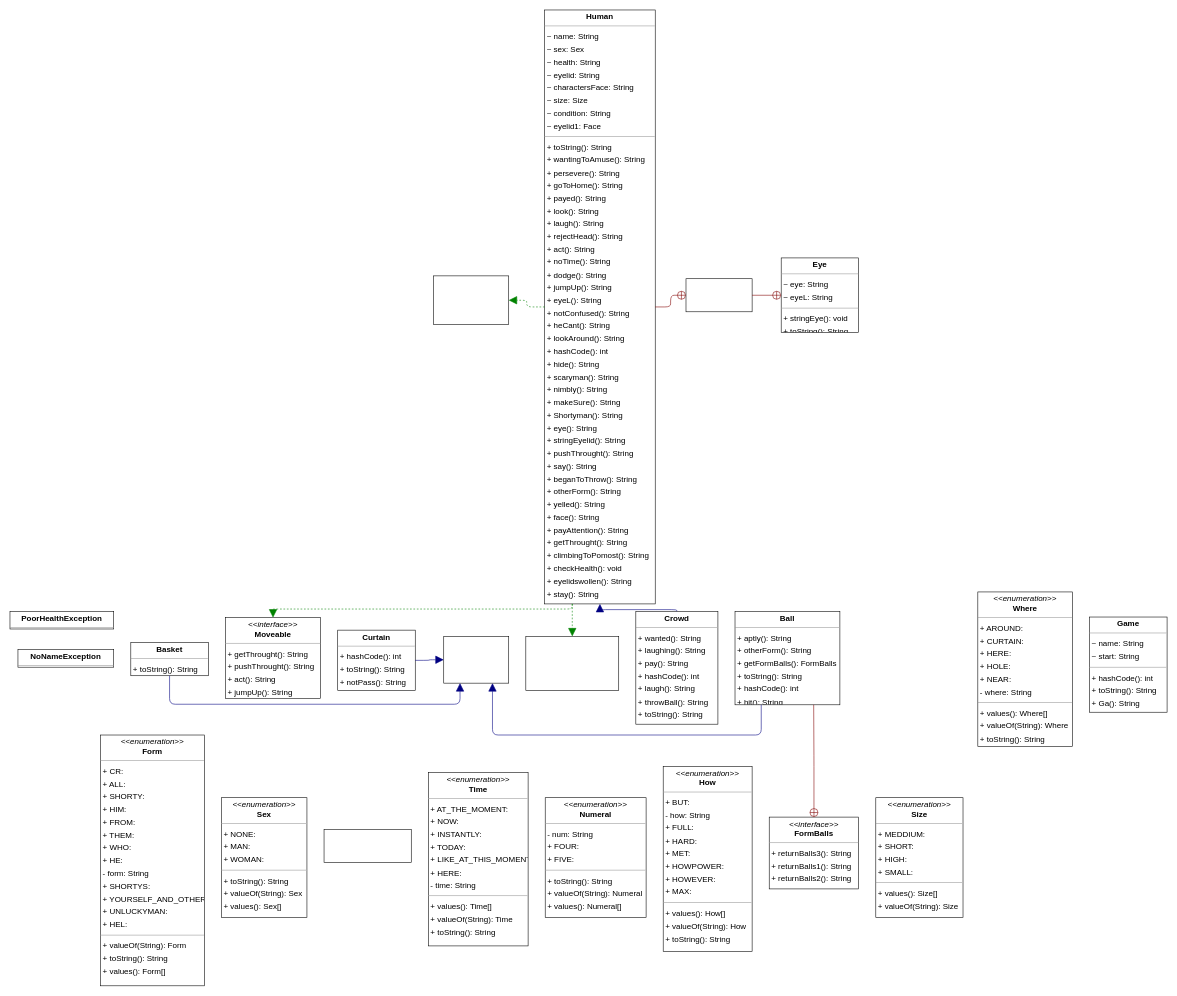
Image size: 1177x996. Some labels were removed from this diagram. The shapes that lost their labels are listed below. From the top down, each one's box as (x1, y1, x2, y2) in pixels, then its label:
(433, 275, 509, 325): <<interface>> Emotionable + laugh(): String
(685, 278, 752, 312): Face + string(): void
(443, 636, 509, 683): Item ~ name: String ~ size: Size
(525, 636, 619, 691): <<interface>> Cognitiveable + makeSure(): String + payAttention(): String
(323, 829, 411, 863): Main + main(String[]): void
